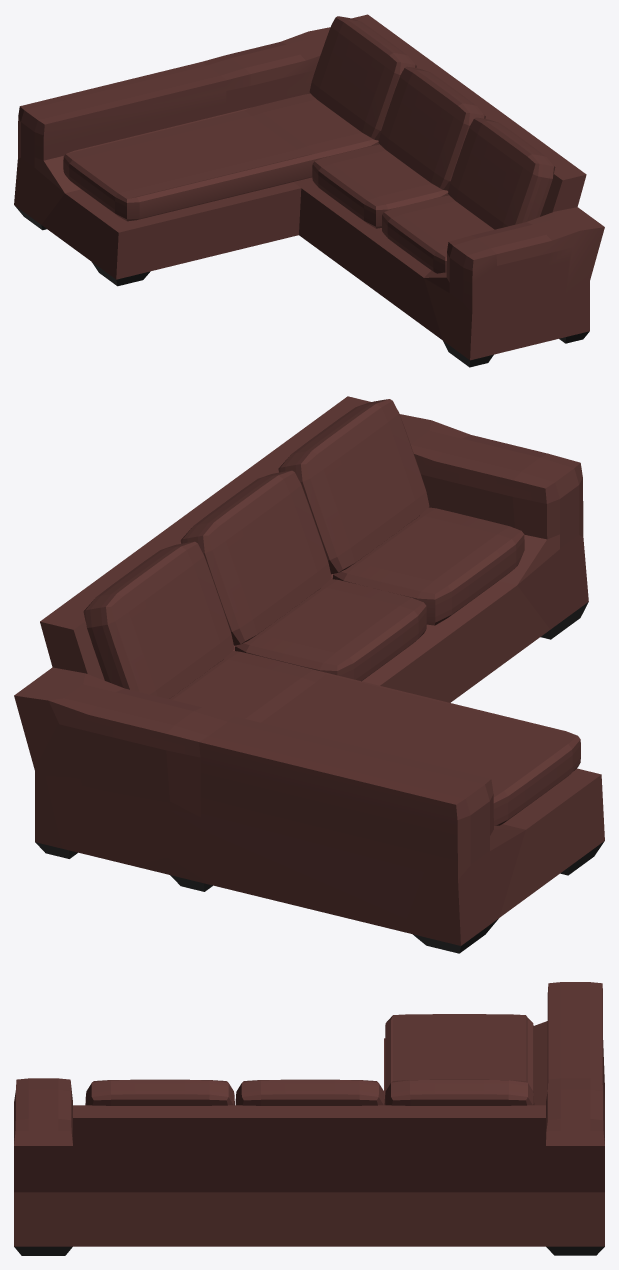
The model's file is sofa2.fbx.
3 views of the same model, one above another, from view 1: azimuth 30°, elevation 25°; view 2: azimuth 150°, elevation 25°; view 3: azimuth 270°, elevation 25° (orthographic). The views are drawn at different scales.
Parts seen in each view (by area): view 1: Cube; view 2: Cube; view 3: Cube.
Part boxes in pixels (left/top/right/bottom): Cube: left=14, top=14, right=604, bottom=367; Cube: left=14, top=396, right=604, bottom=953; Cube: left=14, top=982, right=604, bottom=1255.
Bounding box in the file's own units: 681 × 314 × 987.
